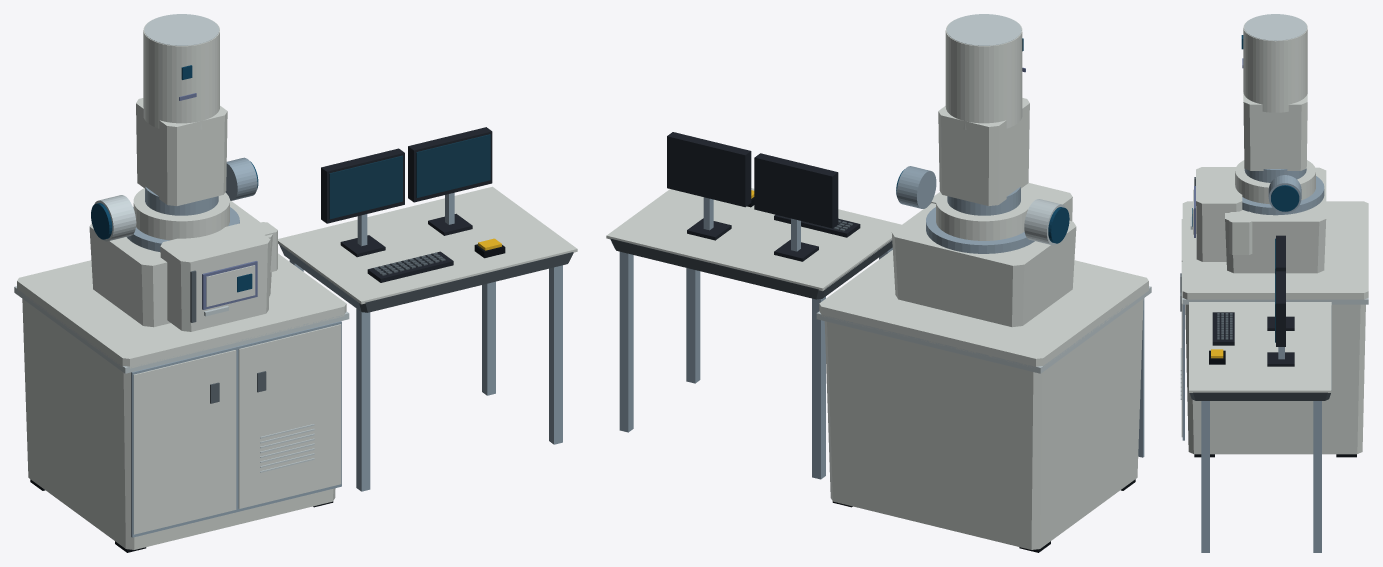
Rendered from zeiss-geminisem-560.glb.
The picture shows the model from 3 angles, left to right: view 1: azimuth 30°, elevation 25°; view 2: azimuth 150°, elevation 25°; view 3: azimuth 270°, elevation 25°; orthographic projection. The views are drawn at different scales.
Parts seen in each view (by area): view 1: floor_cabinet, worktable, column, fixed_chamber, lower_body, secondary_screen, viewer_screen, cosmetic_side, monitor_stands, keyboard; view 2: floor_cabinet, worktable, lower_body, column, secondary_screen, viewer_screen, cosmetic_side, monitor_stands, fixed_chamber, keyboard; view 3: floor_cabinet, worktable, column, lower_body, fixed_chamber, cosmetic_side, secondary_screen, keyboard, monitor_stands, viewer_screen, compare_button.
Part boxes in pixels (x1,y1,x2,y2): floor_cabinet: (14,253,349,552); worktable: (278,186,577,491); column: (136,14,227,215); fixed_chamber: (160,223,270,331); lower_body: (89,188,272,327); secondary_screen: (408,127,492,202); viewer_screen: (321,148,404,223); cosmetic_side: (91,157,277,272); monitor_stands: (340,192,472,257); keyboard: (367,251,453,282); floor_cabinet: (816,250,1151,552); worktable: (606,188,901,479); lower_body: (891,188,1076,327); column: (938,14,1029,215); secondary_screen: (667,132,751,207); viewer_screen: (754,153,838,228); cosmetic_side: (896,166,1069,245); monitor_stands: (687,197,818,261); fixed_chamber: (1022,183,1072,221); keyboard: (774,214,860,237); floor_cabinet: (1180,201,1368,457); worktable: (1189,302,1331,552); column: (1241,14,1307,182); lower_body: (1225,160,1326,273); fixed_chamber: (1190,167,1242,261); cosmetic_side: (1229,175,1301,254); secondary_screen: (1275,271,1285,346); keyboard: (1212,312,1234,345); monitor_stands: (1267,316,1294,366); viewer_screen: (1275,235,1285,274); compare_button: (1209,349,1225,364).
Bounding box in the file's own units: 1.86 × 1.8 × 0.7905.
